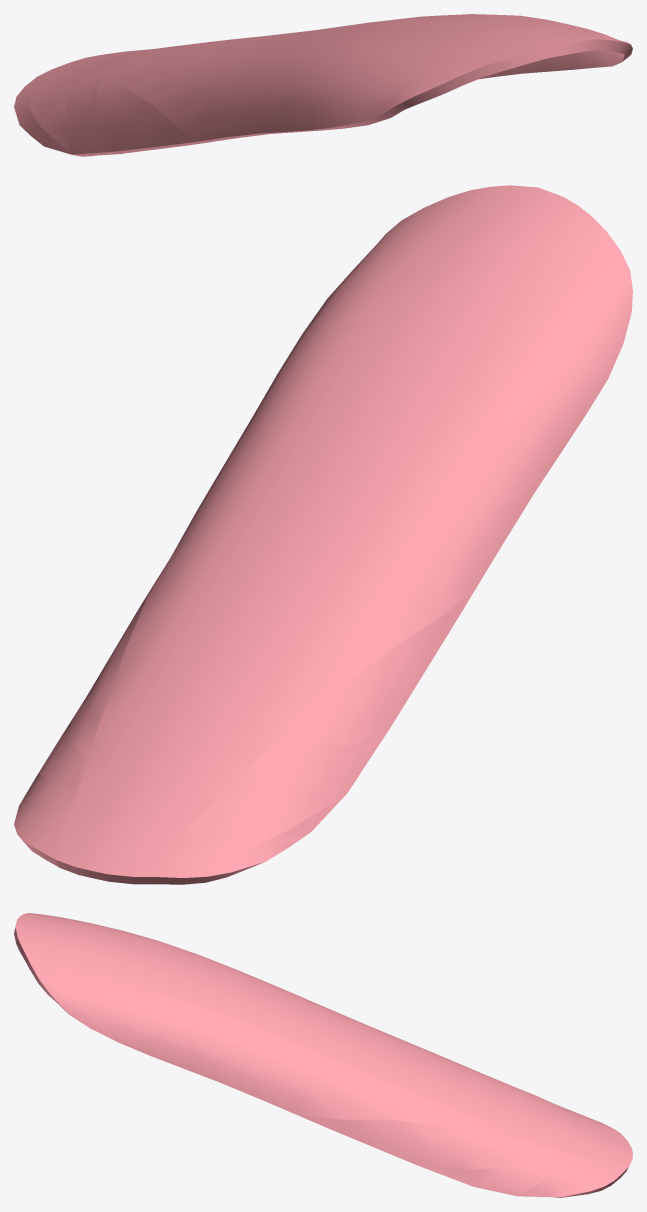
3 renders of one model, top to bottom at view 1: azimuth 30°, elevation 25°; view 2: azimuth 150°, elevation 25°; view 3: azimuth 270°, elevation 25°, orthographic. The views are drawn at different scales.
Visible parts, largest first — view 1: OBJ_38, OBJ_35, OBJ_30, OBJ_31, OBJ_36; view 2: OBJ_38, OBJ_35, OBJ_31, OBJ_30, OBJ_36, OBJ_34, OBJ_33, OBJ_32; view 3: OBJ_38, OBJ_33, OBJ_32, OBJ_34.
Part boxes in pixels (box(x1,y1,x2,y2)): OBJ_38: box(53, 14, 632, 141); OBJ_35: box(94, 78, 211, 153); OBJ_30: box(65, 75, 122, 156); OBJ_31: box(28, 71, 86, 154); OBJ_36: box(14, 69, 70, 154); OBJ_38: box(56, 185, 632, 884); OBJ_35: box(260, 587, 476, 756); OBJ_31: box(163, 787, 345, 851); OBJ_30: box(228, 729, 389, 794); OBJ_36: box(132, 795, 345, 884); OBJ_34: box(14, 774, 75, 867); OBJ_33: box(66, 562, 167, 757); OBJ_32: box(38, 717, 87, 794); OBJ_38: box(14, 913, 632, 1166); OBJ_33: box(298, 1115, 542, 1170); OBJ_32: box(418, 1145, 573, 1196); OBJ_34: box(518, 1153, 628, 1197).
Size of the model in its own units: 133 by 157 by 370.
